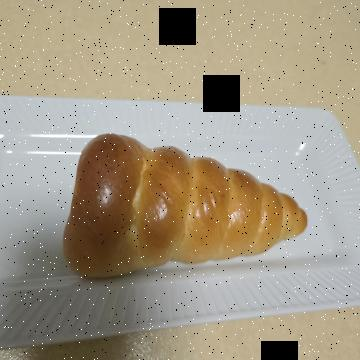cream horn: (121, 46, 306, 314)
